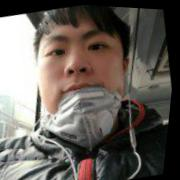WRONG: (26, 15, 142, 139)
